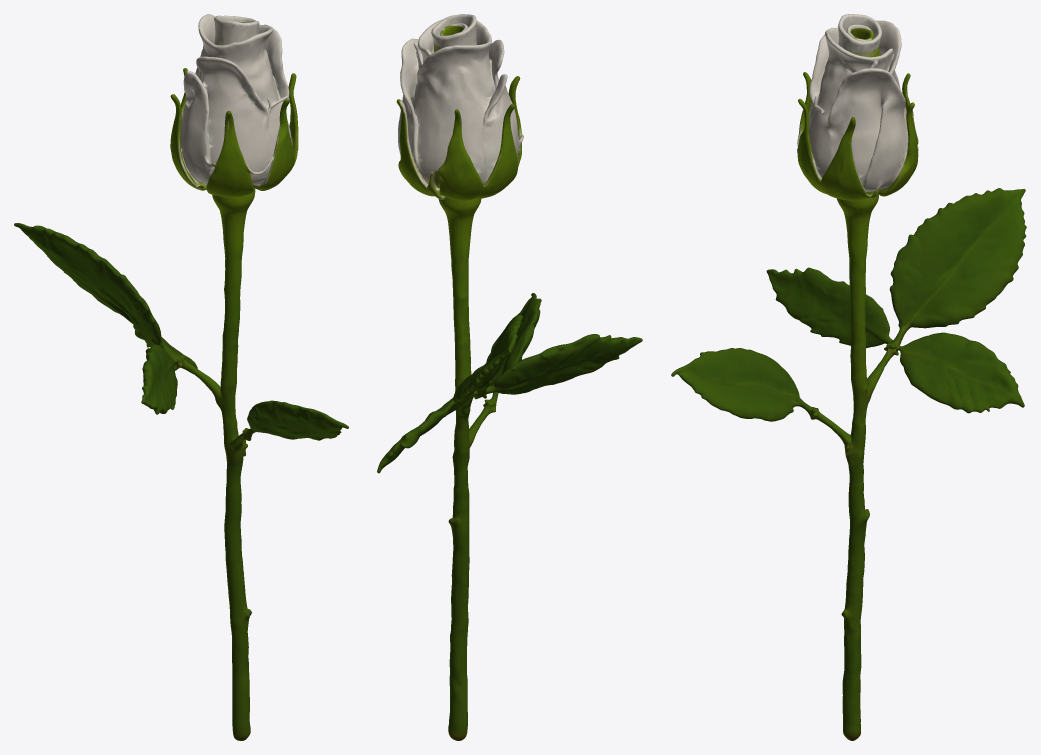
Rendered from White Rose small.glb.
3 renders of one model, left to right at view 1: azimuth 30°, elevation 25°; view 2: azimuth 150°, elevation 25°; view 3: azimuth 270°, elevation 25°, orthographic.
Visible parts, largest first — view 1: tripo_node_1a9de97c-dde0-4a1d-83ad-7feaa7b4af46; view 2: tripo_node_1a9de97c-dde0-4a1d-83ad-7feaa7b4af46; view 3: tripo_node_1a9de97c-dde0-4a1d-83ad-7feaa7b4af46.
Part boxes in pixels (box(x1,y1,x2,y2)): tripo_node_1a9de97c-dde0-4a1d-83ad-7feaa7b4af46: box(14, 14, 348, 740); tripo_node_1a9de97c-dde0-4a1d-83ad-7feaa7b4af46: box(377, 14, 642, 740); tripo_node_1a9de97c-dde0-4a1d-83ad-7feaa7b4af46: box(671, 14, 1026, 740).
Bounding box in the file's own units: 0.2849 × 1 × 0.4485.
1 material, 1 textured.
